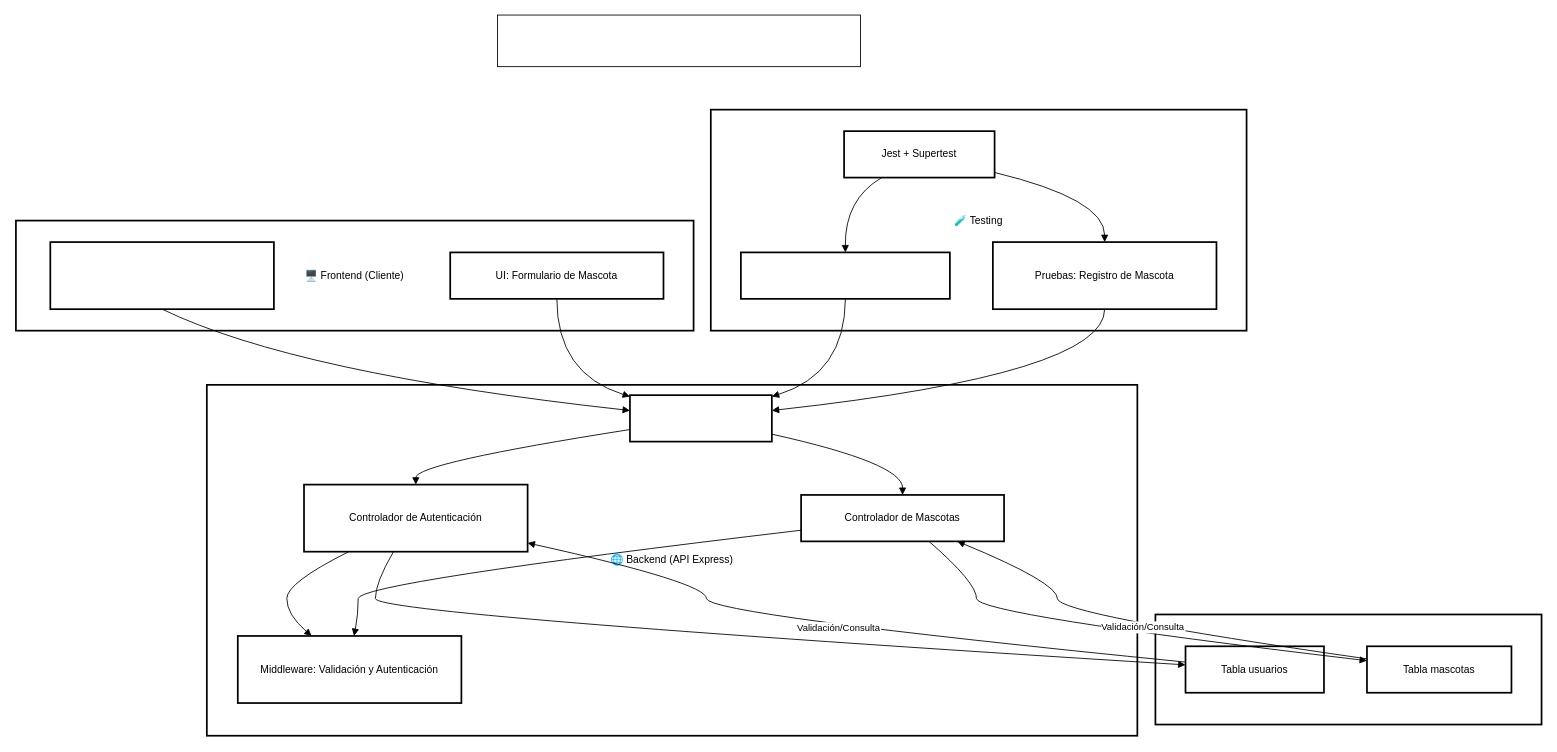
Some shapes in this 1557 by 752 pixel diagram are drawn without their labels. The shapes that lost their labels are listed below. From the top down, each one's box as (x1, y1, x2, y2) in pixels, then its label:
(497, 14, 860, 67): Diagrama de Componentes
(49, 241, 274, 310): UI: Formulario de Registro/Login
(740, 251, 950, 299): Pruebas: Registro & Login
(629, 394, 772, 442): Rutas API REST
(1154, 613, 1542, 725): 💾 Base de Datos (MySQL)
